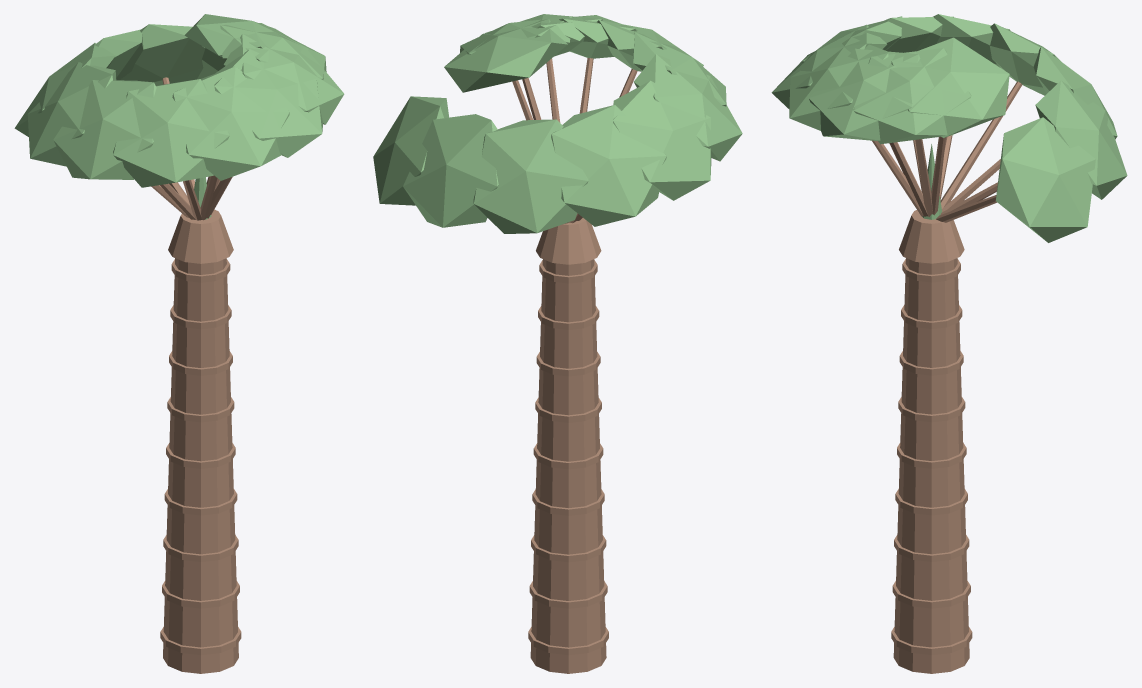
Rendered from palm_tree.glb.
3 views of the same model, side by side, from view 1: azimuth 30°, elevation 25°; view 2: azimuth 150°, elevation 25°; view 3: azimuth 270°, elevation 25° (orthographic).
Visible parts, largest first — view 1: PalmTree_Frond, PalmTree_Trunk, PalmTree_Scar; view 2: PalmTree_Frond, PalmTree_Trunk, PalmTree_Scar; view 3: PalmTree_Frond, PalmTree_Trunk, PalmTree_Scar.
Boxes of the visible parts, left/top/right/bottom form: PalmTree_Frond: left=14, top=14, right=344, bottom=219; PalmTree_Trunk: left=151, top=77, right=238, bottom=673; PalmTree_Scar: left=160, top=259, right=241, bottom=655; PalmTree_Frond: left=373, top=14, right=742, bottom=233; PalmTree_Trunk: left=512, top=58, right=637, bottom=673; PalmTree_Scar: left=528, top=260, right=608, bottom=655; PalmTree_Frond: left=771, top=14, right=1127, bottom=242; PalmTree_Trunk: left=872, top=81, right=1022, bottom=673; PalmTree_Scar: left=891, top=259, right=972, bottom=655.
Bounding box in the file's own units: 0.2763 × 0.5424 × 0.2807.
